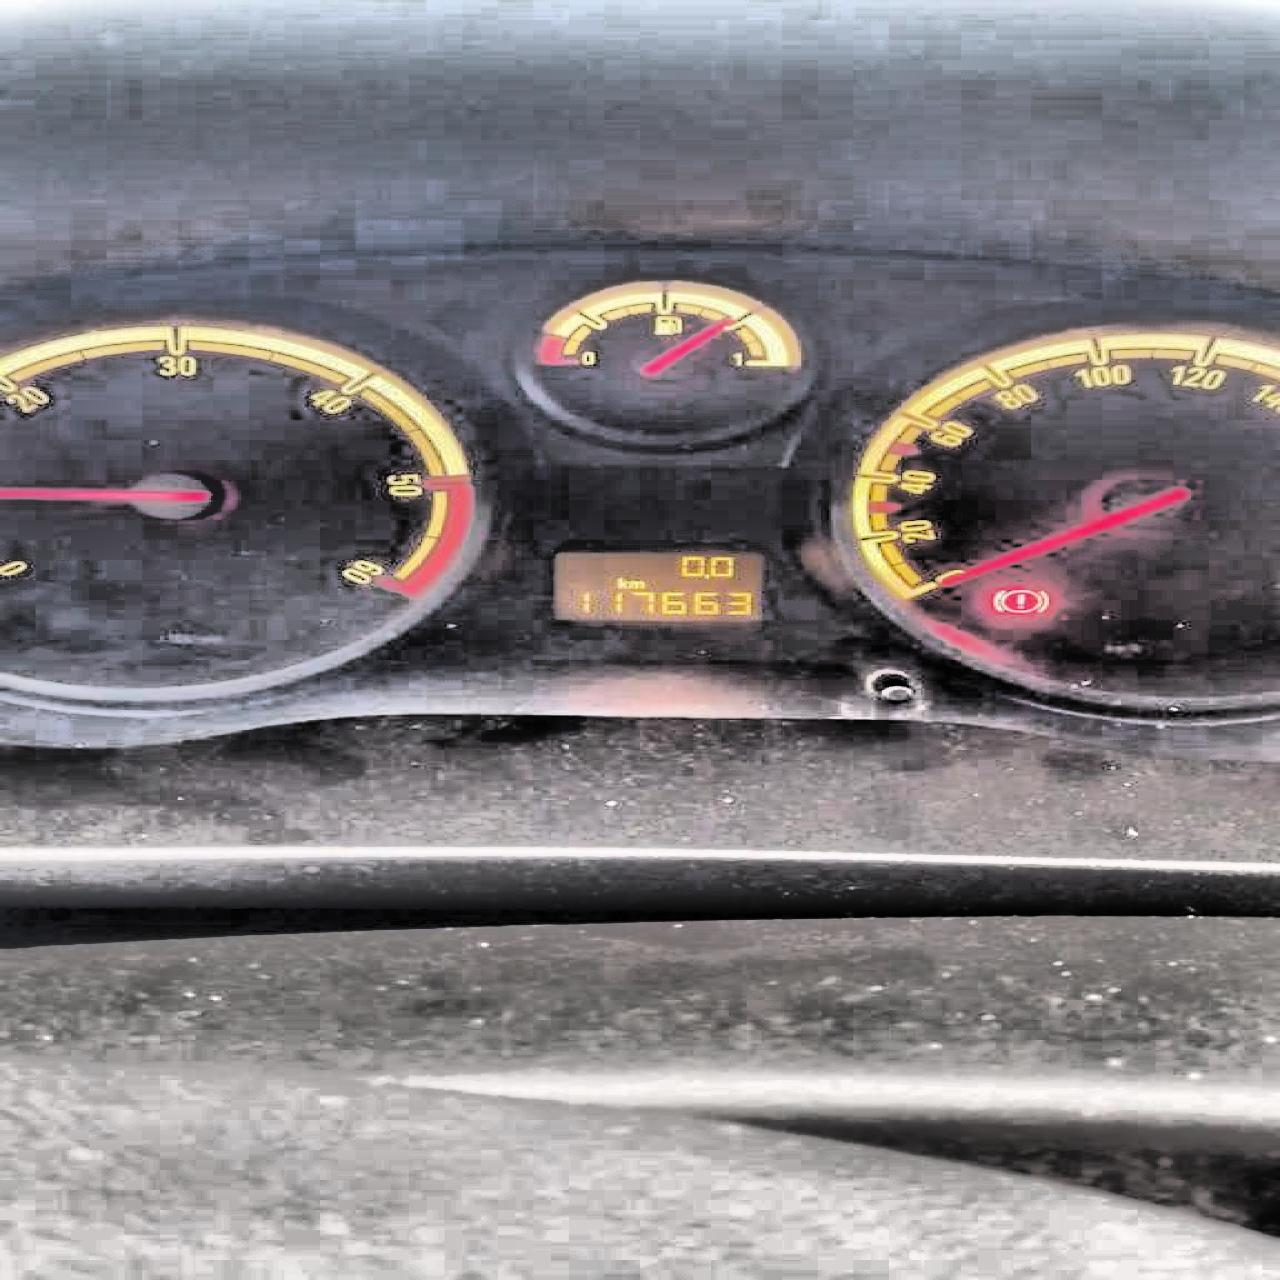-: (702, 572, 709, 579)
0: (678, 554, 704, 576), (707, 554, 731, 576)
1: (611, 591, 622, 614), (578, 590, 588, 612)
3: (724, 591, 751, 614)
6: (692, 590, 717, 615), (658, 591, 685, 614)
7: (628, 590, 653, 612)
X: (613, 577, 627, 588), (626, 580, 645, 588)
odometer: (545, 549, 771, 624)
